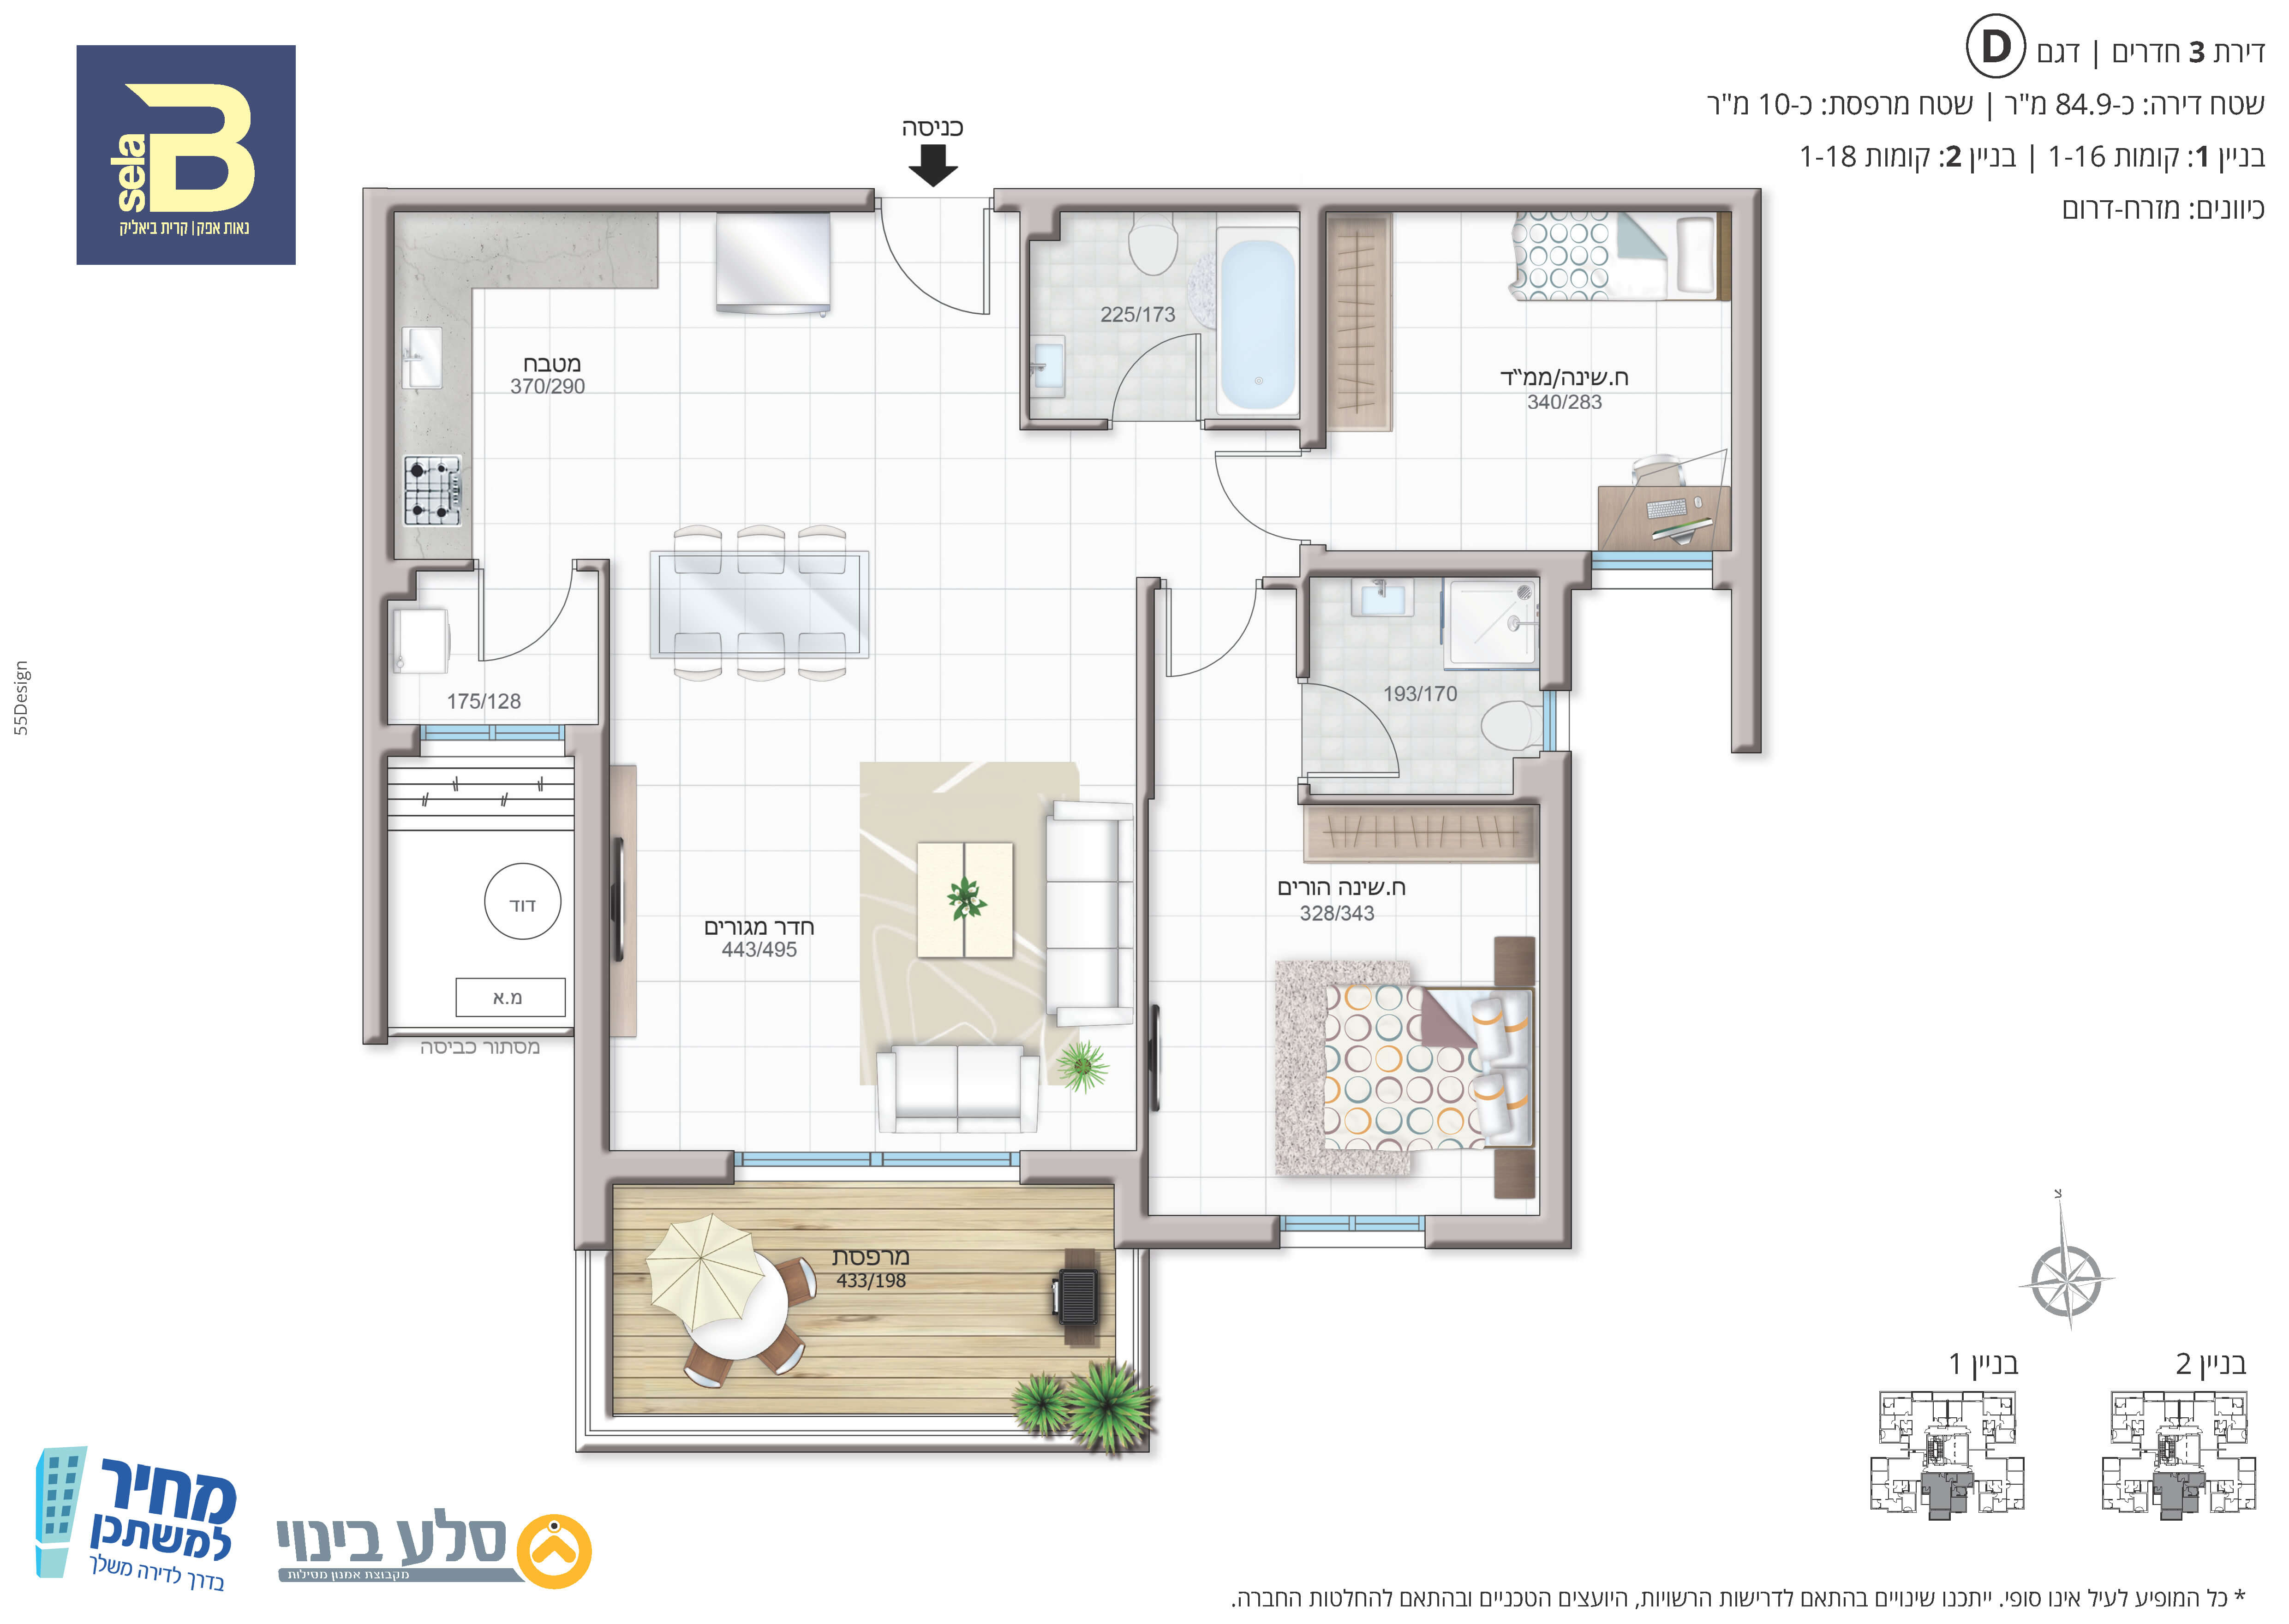door: (877, 216, 995, 320), (476, 578, 575, 666), (1211, 450, 1294, 543), (1108, 330, 1203, 411), (1167, 599, 1257, 684)
wall: (1732, 186, 1760, 752), (1116, 1216, 1271, 1248), (1137, 800, 1148, 1151)
window: (1593, 552, 1714, 569), (742, 1151, 868, 1167), (883, 1151, 1009, 1165), (1280, 1216, 1350, 1232), (496, 724, 561, 740), (1355, 1214, 1417, 1230), (424, 726, 489, 740), (1544, 689, 1554, 750)
